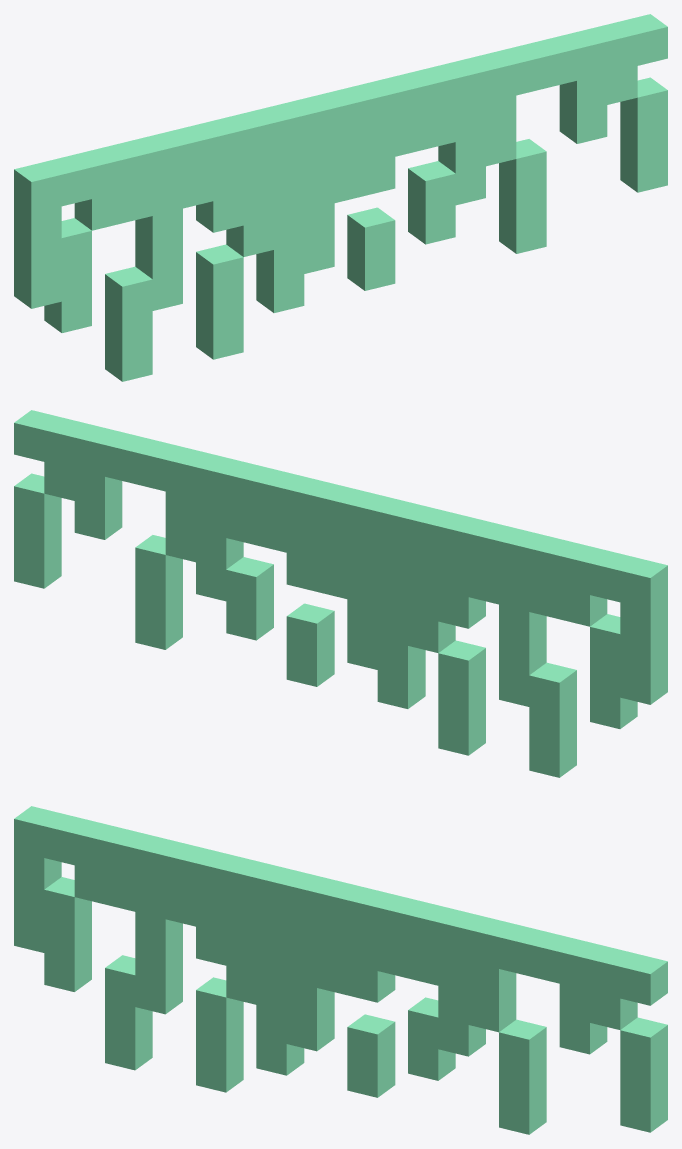
The model's file is LledgeGrassOneSide.obj.
The picture shows the model from 3 angles, top to bottom: view 1: azimuth 30°, elevation 25°; view 2: azimuth 150°, elevation 25°; view 3: azimuth 330°, elevation 25°; orthographic projection.
Size of the model in its own units: 2.1 by 0.7 by 0.1.
